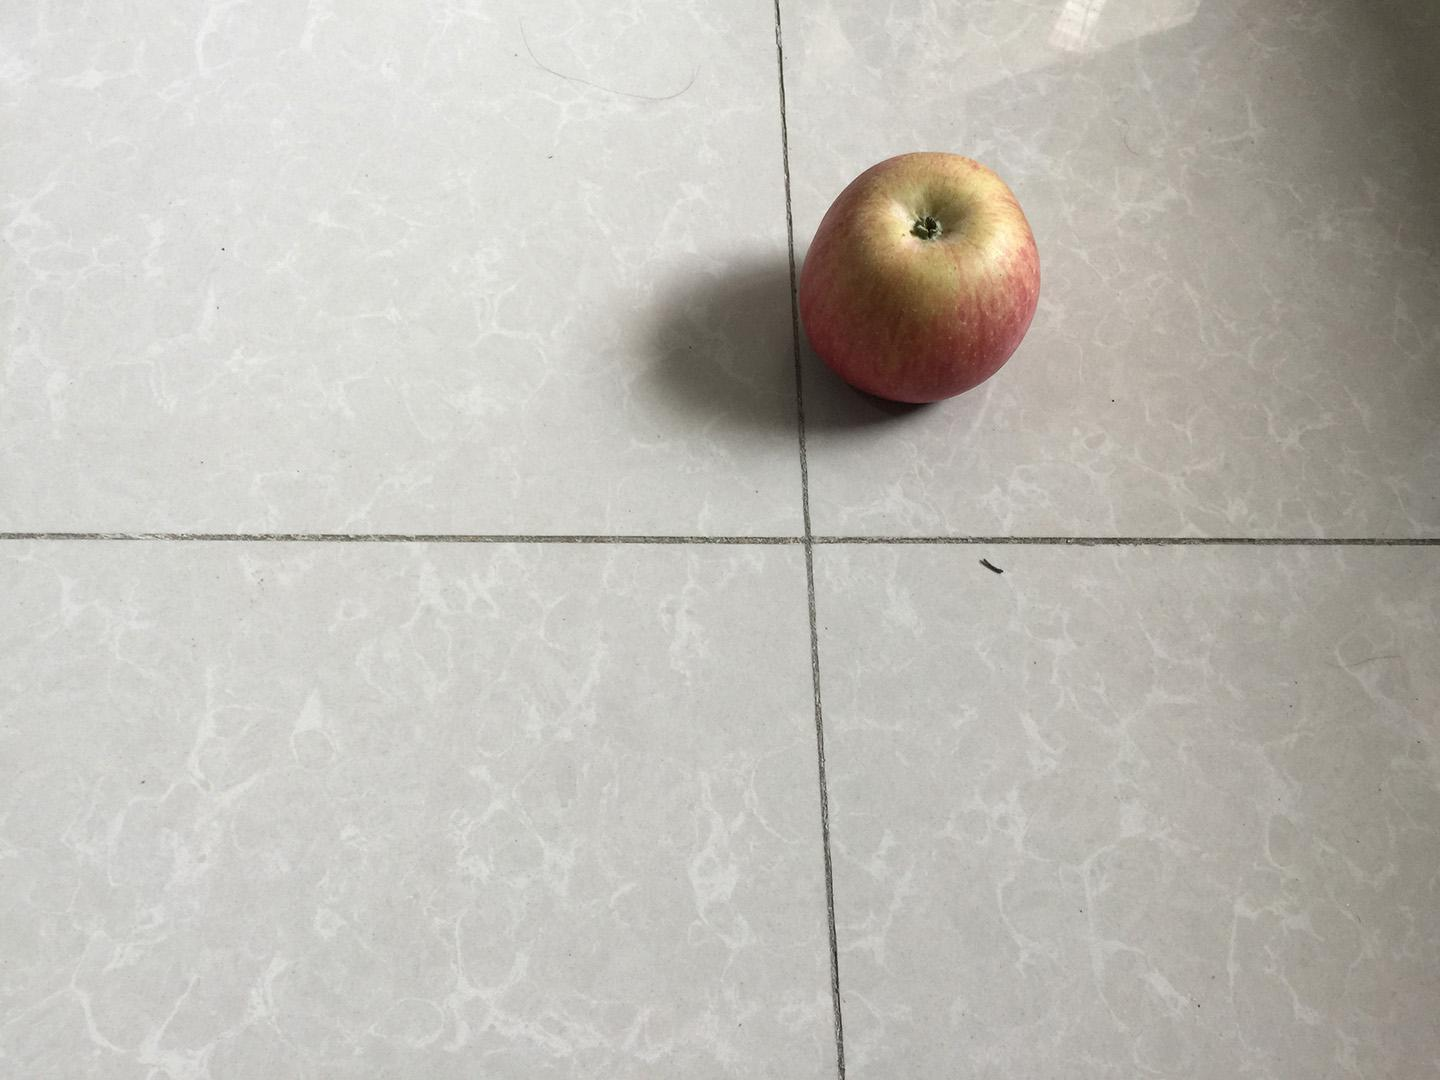apple: (794, 147, 1049, 410)
